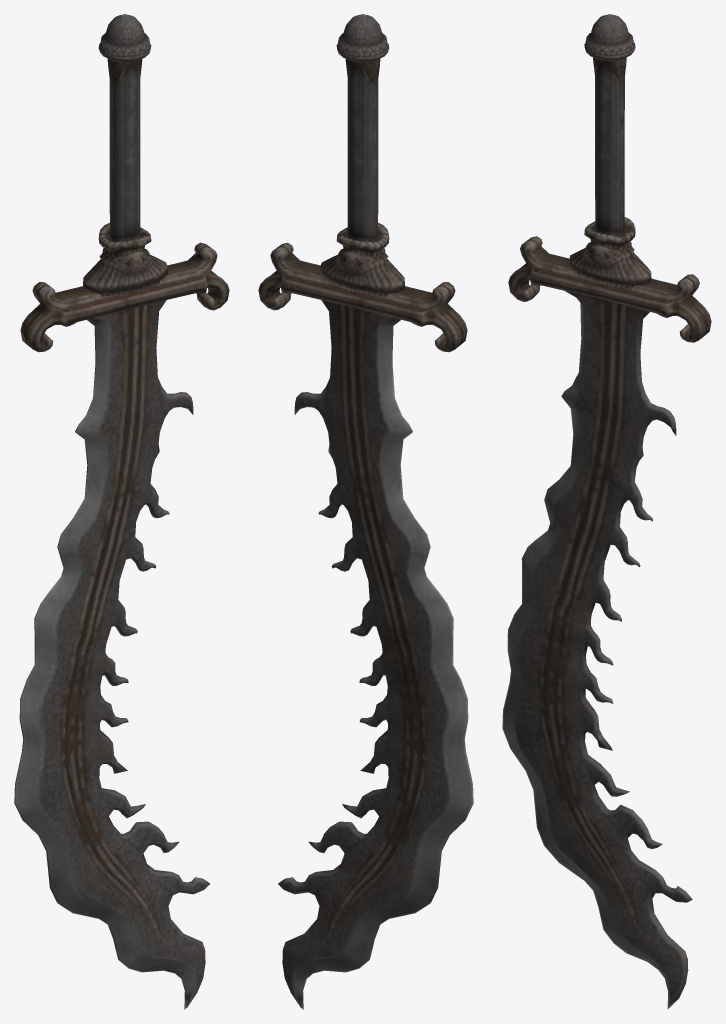
Rendered from weapon-wp_a_0413.glb.
3 views of the same model, side by side, from view 1: azimuth 30°, elevation 25°; view 2: azimuth 150°, elevation 25°; view 3: azimuth 330°, elevation 25° (orthographic). The views are drawn at different scales.
Visible parts, largest first — view 1: wp_a_0413_mesh; view 2: wp_a_0413_mesh; view 3: wp_a_0413_mesh.
Part boxes in pixels (x1=…): wp_a_0413_mesh: x1=14, y1=14, x2=229, y2=1009; wp_a_0413_mesh: x1=258, y1=14, x2=473, y2=1009; wp_a_0413_mesh: x1=502, y1=14, x2=711, y2=1009.
Size of the model in its own units: 0.3652 by 1.67 by 0.0837.
1 material, 1 textured.
